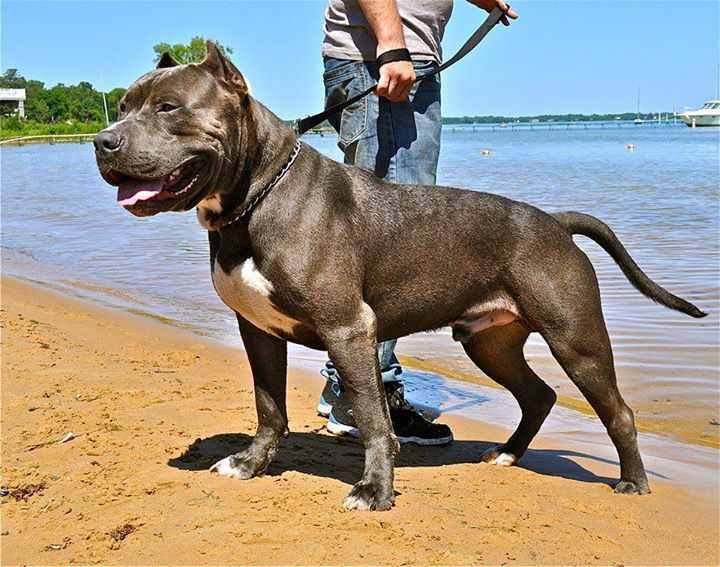am_pit_bull_terrier: (92, 38, 708, 512)
person: (317, 0, 518, 447)
